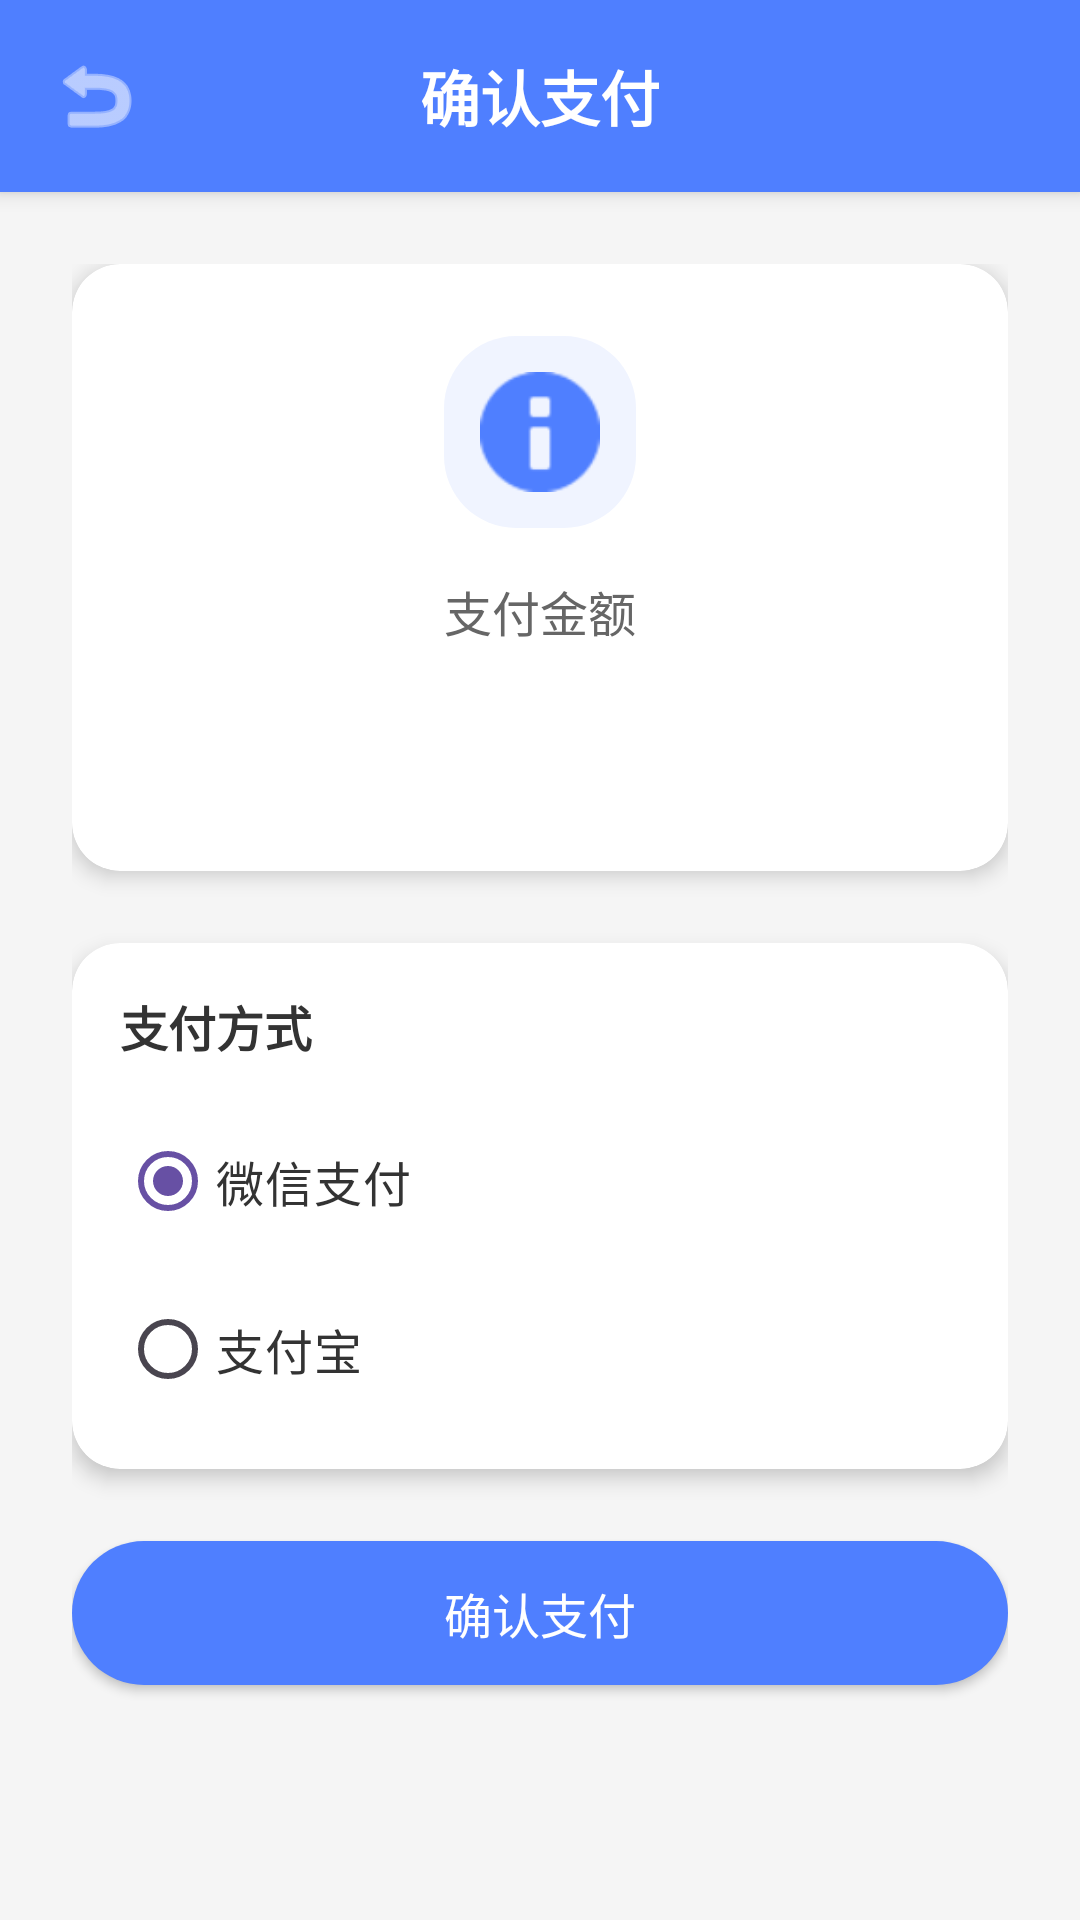

Locate icon controls on the screen. Image size 1080px x 1920px, boxes as (x1=x1, y1=y1, x2=x2, y2=y2).
info: (x1=480, y1=372, x2=600, y2=492)
revert: (x1=63, y1=65, x2=132, y2=128)
